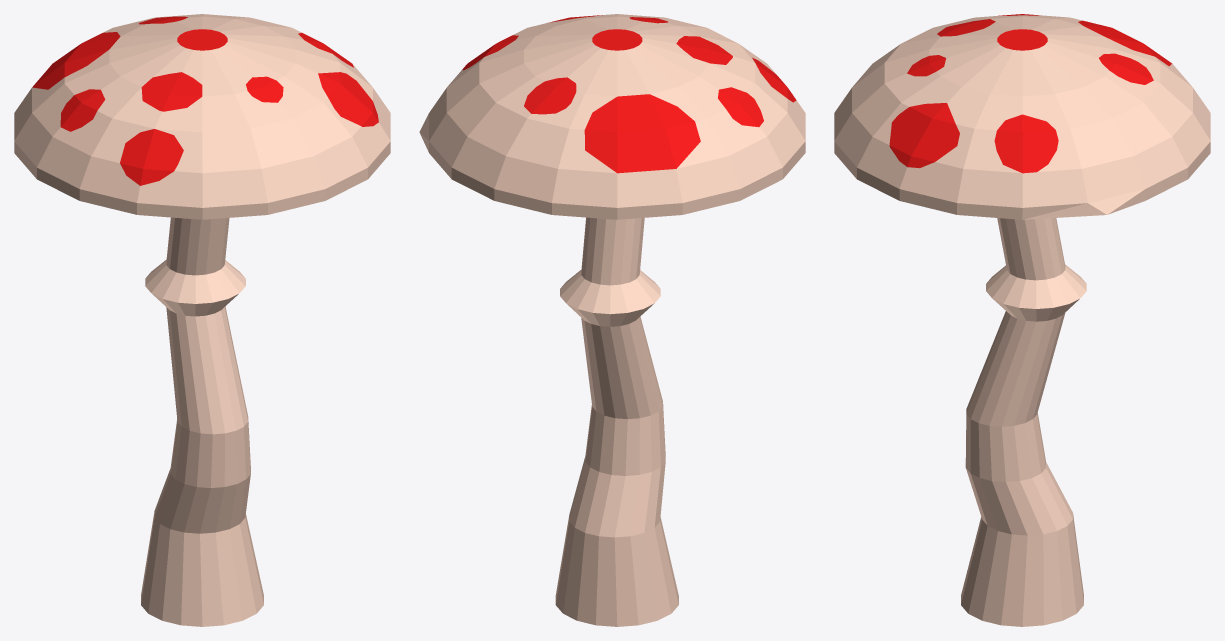
File: mushroom_04.fbx
3 views of the same model, side by side, from view 1: azimuth 30°, elevation 25°; view 2: azimuth 150°, elevation 25°; view 3: azimuth 270°, elevation 25° (orthographic).
Visible parts, largest first — view 1: Cylinder001; view 2: Cylinder001; view 3: Cylinder001.
Boxes of the visible parts, x1,y1,x2,y2 form: Cylinder001: (14,14,390,626); Cylinder001: (419,14,805,626); Cylinder001: (834,14,1210,626).
Bounding box in the file's own units: 76.64 × 124 × 75.47.
